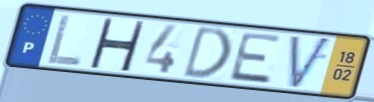4: (143, 23, 180, 77)
D: (179, 24, 234, 80)
E: (226, 30, 286, 86)
H: (86, 16, 147, 74)
L: (44, 12, 85, 68)
V: (288, 33, 335, 92)
